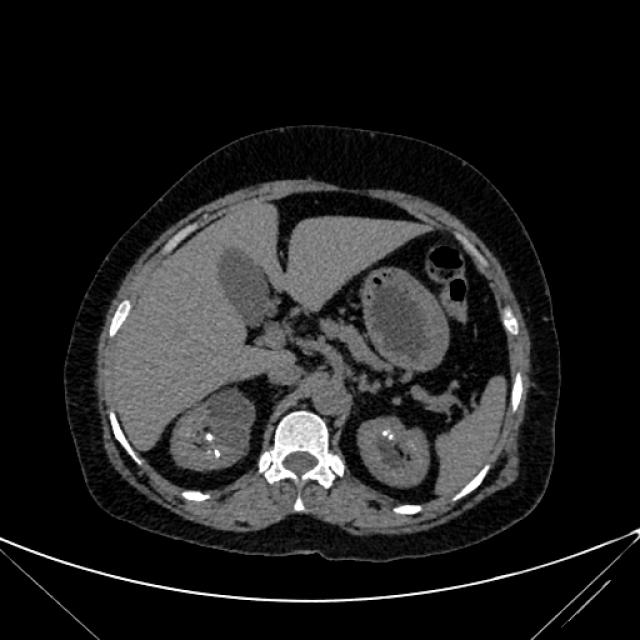kidney: (182, 398, 247, 467), (364, 422, 424, 480)
stone: (206, 434, 213, 441), (383, 431, 388, 435), (216, 451, 219, 457), (390, 435, 392, 439)
